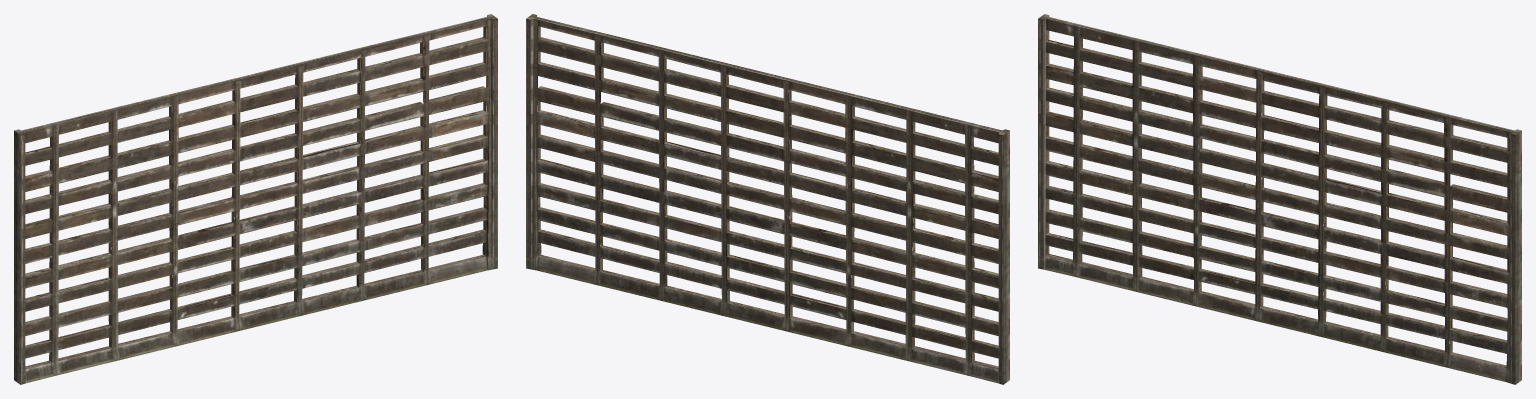
File: TW2_1_HUT_05_6-transformed.glb
3 views of the same model, side by side, from view 1: azimuth 30°, elevation 25°; view 2: azimuth 150°, elevation 25°; view 3: azimuth 330°, elevation 25° (orthographic).
Visible parts, largest first — view 1: default; view 2: default; view 3: default.
Part boxes in pixels (x1,y1,x2,y2): default: (14, 14, 497, 384); default: (526, 14, 1009, 384); default: (1038, 14, 1521, 384).
Bounding box in the file's own units: 4.61 × 2.31 × 0.1087.
Materials: 2 (2 with a texture image).
